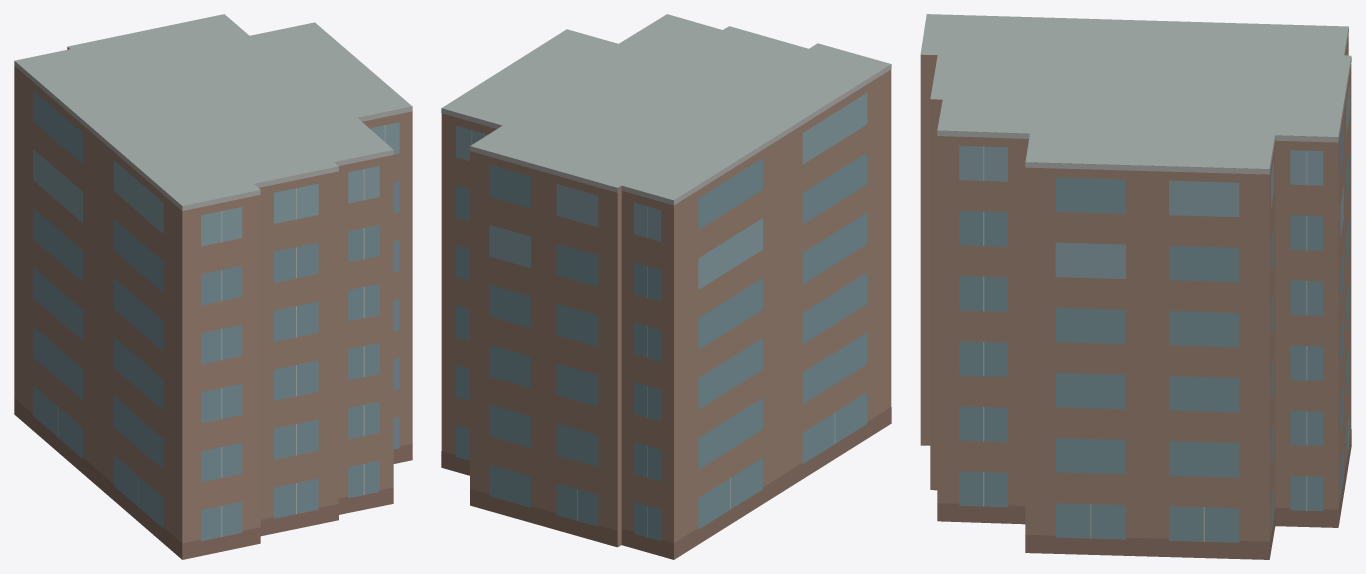
File: survey-upis-32546336.glb
3 views of the same model, side by side, from view 1: azimuth 30°, elevation 25°; view 2: azimuth 150°, elevation 25°; view 3: azimuth 270°, elevation 25° (orthographic). The views are drawn at different scales.
Parts seen in each view (by area): view 1: survey-upis-32546336.tmp; view 2: survey-upis-32546336.tmp; view 3: survey-upis-32546336.tmp.
Part boxes in pixels (x1,y1,x2,y2): survey-upis-32546336.tmp: [14, 14, 412, 559]; survey-upis-32546336.tmp: [441, 14, 891, 559]; survey-upis-32546336.tmp: [920, 14, 1351, 559].
Size of the model in its own units: 14.82 by 17.4 by 17.4.
